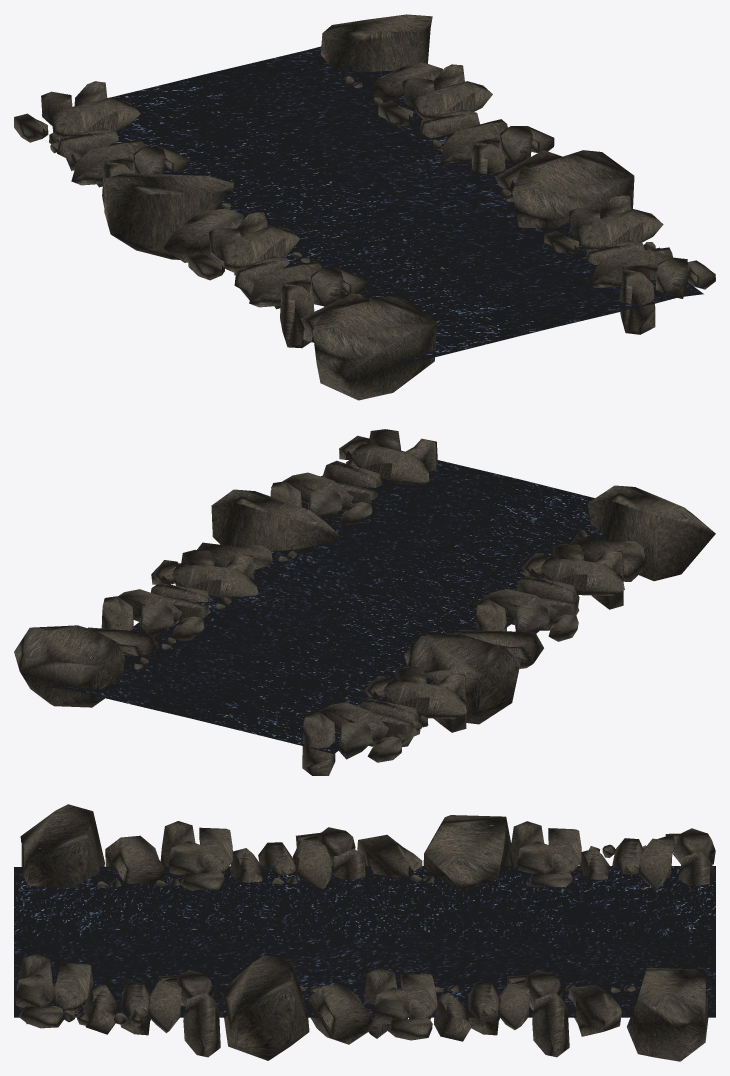
File: straight.gltf
The picture shows the model from 3 angles, top to bottom: view 1: azimuth 30°, elevation 25°; view 2: azimuth 150°, elevation 25°; view 3: azimuth 270°, elevation 25°; orthographic projection. The views are drawn at different scales.
Parts seen in each view (by area): view 1: Object_10, Object_58.003, Object_58.004, Object_58.002, Object_58.001, Object_36.006, Object_36.003, Object_36.005, Object_32.003, Object_36, Object_30.002, Object_36.002 (+23 smaller); view 2: Object_10, Object_58.003, Object_58.001, Object_58.004, Object_58.002, Object_36.004, Object_36.007, Object_36.002, Object_36.001, Object_30.006, Object_32.003, Object_32.002 (+26 smaller); view 3: Object_10, Object_58.002, Object_58.001, Object_58.003, Object_58.004, Object_32.001, Object_32.002, Object_30, Object_30.003, Object_32, Object_32.003, Object_36.002 (+33 smaller).
Boxes of the visible parts, box(x1,y1,x2,y2) form: Object_10: box(72, 46, 703, 364); Object_58.003: box(312, 296, 436, 400); Object_58.004: box(104, 173, 233, 259); Object_58.002: box(512, 150, 634, 227); Object_58.001: box(320, 14, 432, 71); Object_36.006: box(51, 97, 140, 138); Object_36.003: box(576, 209, 663, 248); Object_36.005: box(220, 225, 299, 273); Object_32.003: box(163, 208, 243, 262); Object_36: box(412, 81, 492, 119); Object_30.002: box(619, 269, 655, 334); Object_36.002: box(588, 250, 677, 287); Object_10: box(50, 451, 611, 754); Object_58.003: box(587, 485, 715, 581); Object_58.001: box(14, 625, 124, 707); Object_58.004: box(404, 632, 520, 724); Object_58.002: box(211, 489, 341, 551); Object_36.004: box(540, 556, 624, 595); Object_36.007: box(383, 679, 466, 719); Object_36.002: box(351, 443, 429, 484); Object_36.001: box(172, 563, 258, 597); Object_30.006: box(302, 712, 335, 775); Object_32.003: box(460, 629, 543, 668); Object_32.002: box(570, 537, 646, 581); Object_10: box(14, 866, 715, 1017); Object_58.002: box(221, 955, 309, 1060); Object_58.001: box(627, 968, 708, 1061); Object_58.003: box(20, 804, 104, 887); Object_58.004: box(423, 815, 511, 891); Object_32.001: box(308, 984, 372, 1044); Object_32.002: box(105, 835, 165, 884); Object_30: box(532, 992, 569, 1057); Object_30.003: box(183, 992, 220, 1057); Object_32: box(568, 984, 621, 1036); Object_32.003: box(357, 834, 422, 877); Object_36.002: box(55, 962, 93, 1012).
Bounding box in the file's own units: 17.14 × 3.33 × 24.
Materials: 2 (2 with a texture image).
